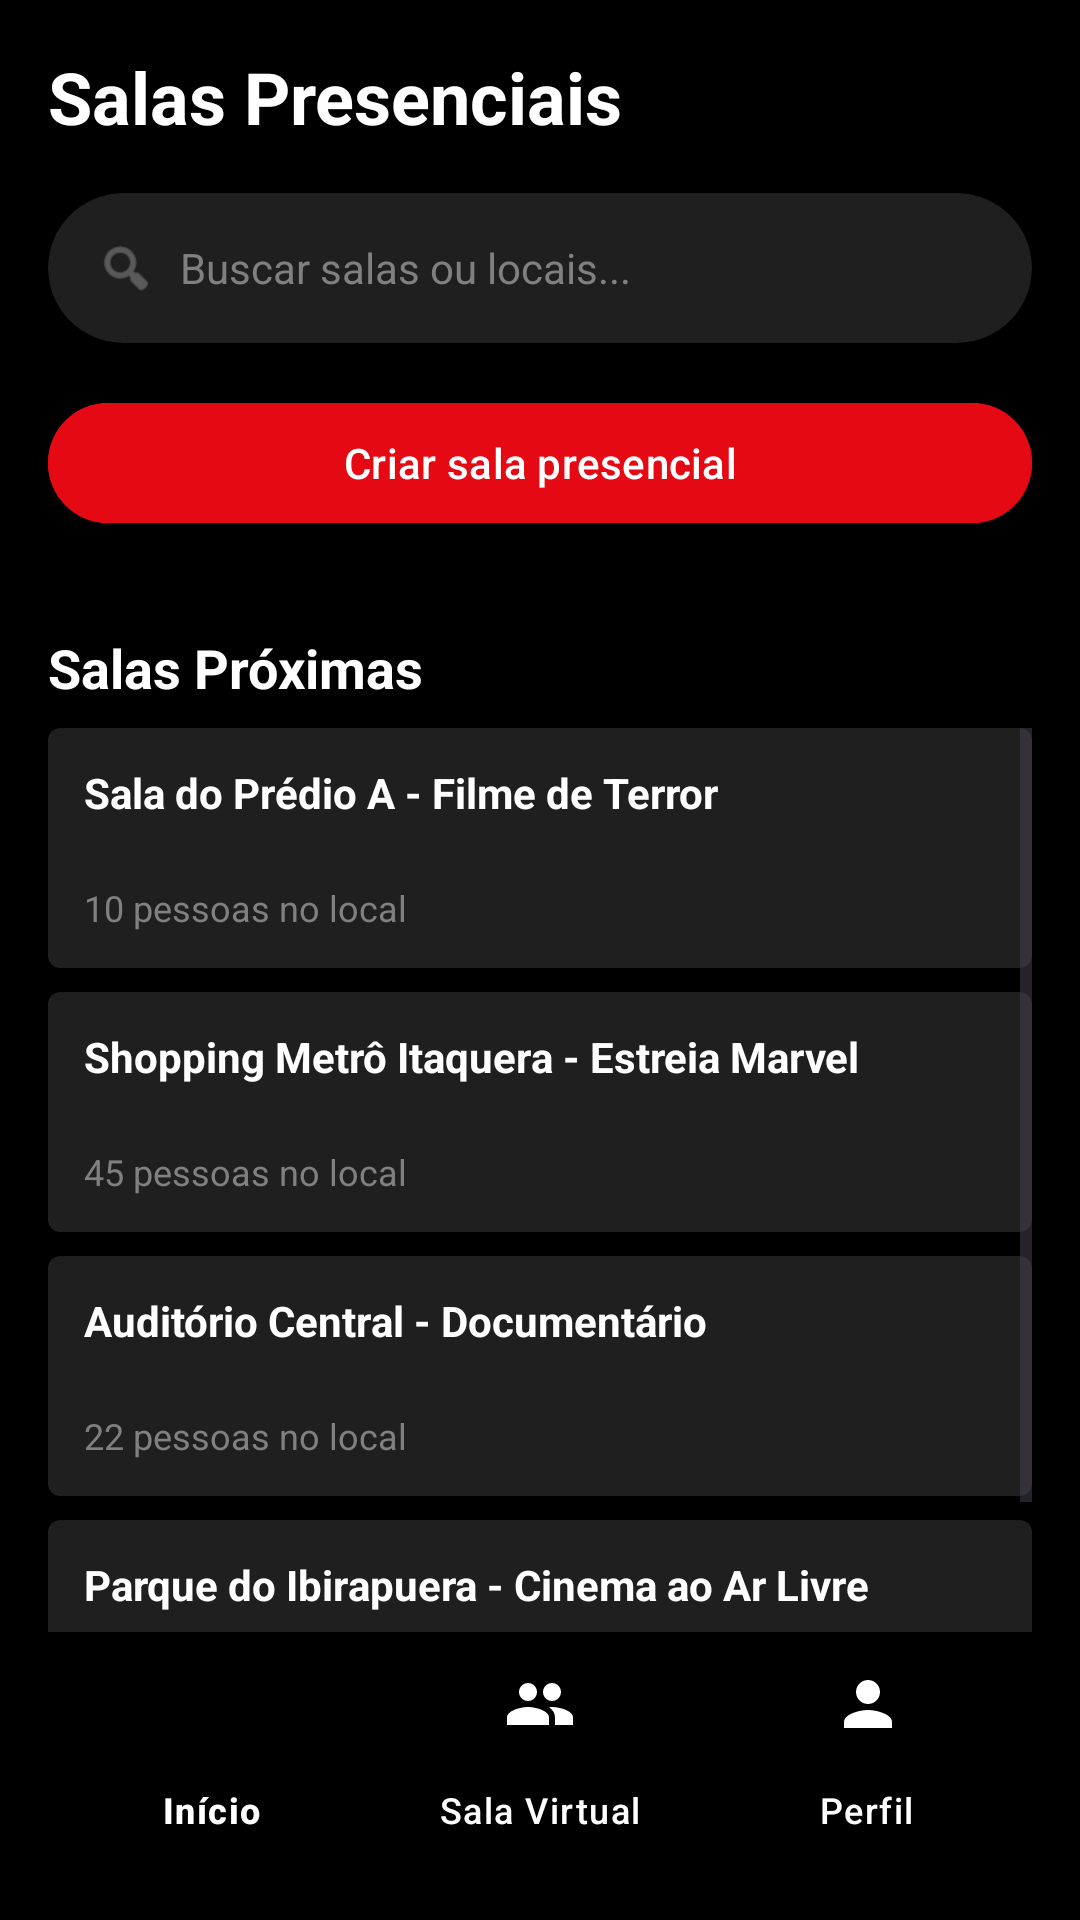

Icons on this 1080×1920 Android screen, each with its box as (x1, y1, x2, y2):
search: (104, 246, 148, 290)
